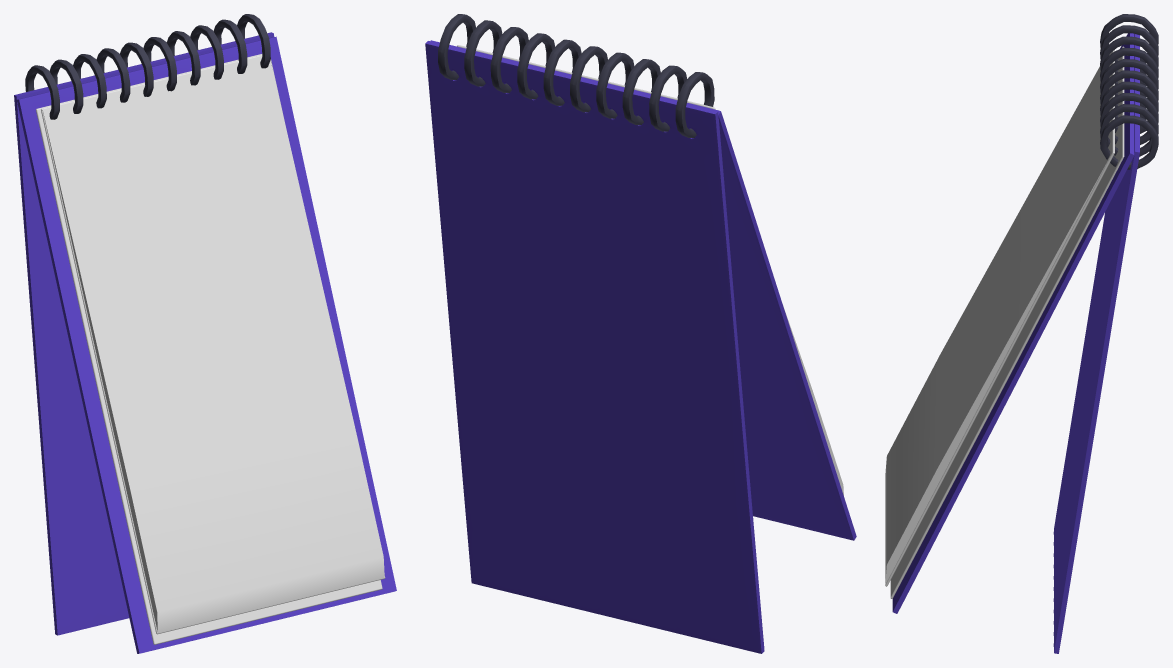
The model's file is Notebook.fbx.
3 renders of one model, left to right at view 1: azimuth 30°, elevation 25°; view 2: azimuth 150°, elevation 25°; view 3: azimuth 270°, elevation 25°, orthographic. The views are drawn at different scales.
Parts seen in each view (by area): view 1: Box 1 - baked, Cardboard, Spiral, Box; view 2: Cardboard, Spiral, Box 1 - baked; view 3: Box 1 - baked, Cardboard, Spiral, Box.
Boxes of the visible parts, x1=… form: Box 1 - baked: x1=41, y1=55, x2=385, y2=634; Cardboard: x1=14, y1=32, x2=396, y2=653; Spiral: x1=25, y1=14, x2=270, y2=119; Box: x1=36, y1=54, x2=382, y2=644; Cardboard: x1=425, y1=40, x2=856, y2=653; Spiral: x1=438, y1=14, x2=714, y2=137; Box 1 - baked: x1=457, y1=45, x2=843, y2=495; Box 1 - baked: x1=885, y1=50, x2=1114, y2=586; Cardboard: x1=892, y1=33, x2=1139, y2=653; Spiral: x1=1100, y1=14, x2=1158, y2=169; Box: x1=890, y1=46, x2=1124, y2=598.
Size of the model in its own units: 110 by 103 by 218.
